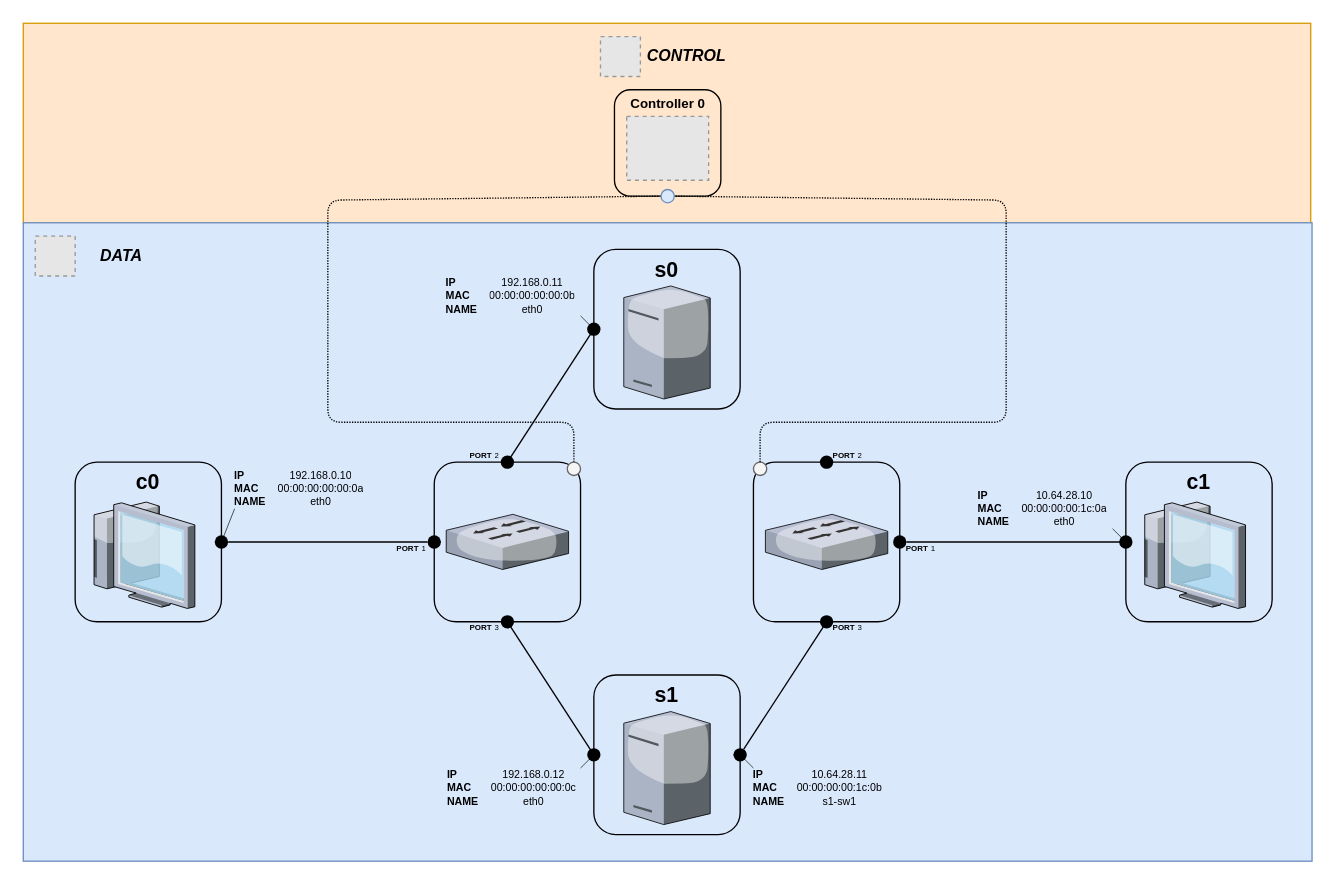
Some shapes in this 1335 by 884 pixel diagram are drawn without their labels. Grey dashed boxes stand in for pictures. The shapes that lost their labels are listed below. From the top down, each one's box as (x1, y1, x2, y2) in pixels, then its label:
(433, 461, 581, 622): sw0
(752, 461, 900, 622): sw1
